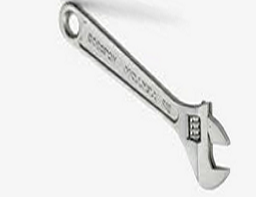Wrench: (54, 3, 238, 196)
